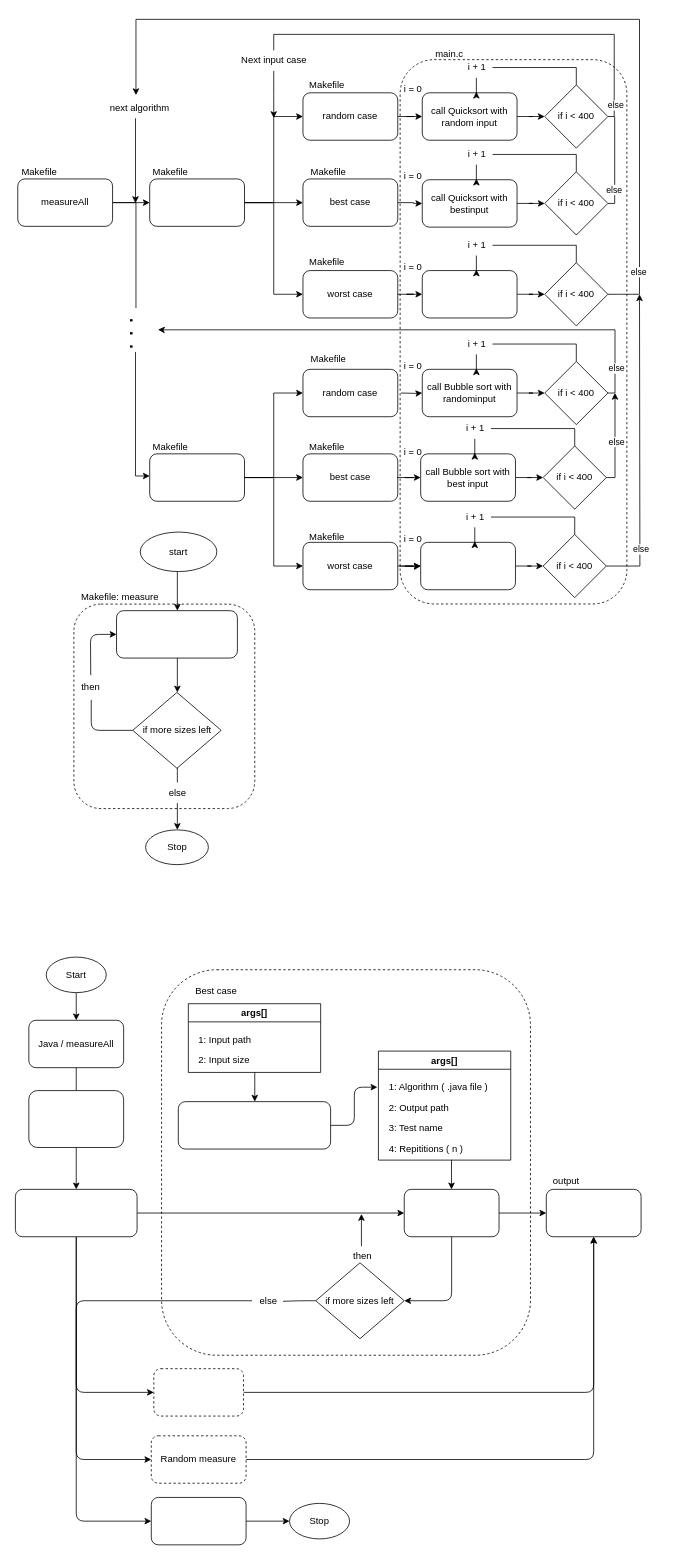
The diagram is 693 pixels wide and 1559 high, and some of its shapes have lost their labels. The centre of each missing label's shape, as x and y in pixels:
algorithm-PC##.csv: the point at 593,1213
Bubblesort measure: the point at 197,477
call Bubble sort with worst input: the point at 467,566
call main.c with algorithm: the point at 176,634
call Quicksort with worst input: the point at 469,294
Java / algorithm /algorithm.Java: the point at 254,1125
Java / algortihm / measure: the point at 76,1213
Quicksort measure: the point at 197,202
RAPL / main.c: the point at 451,1213
wlp4s0 down (network card down) modprobe msr: the point at 76,1118
wlp4s0 up (network card up): the point at 198,1521
Worst measure: the point at 198,1392
